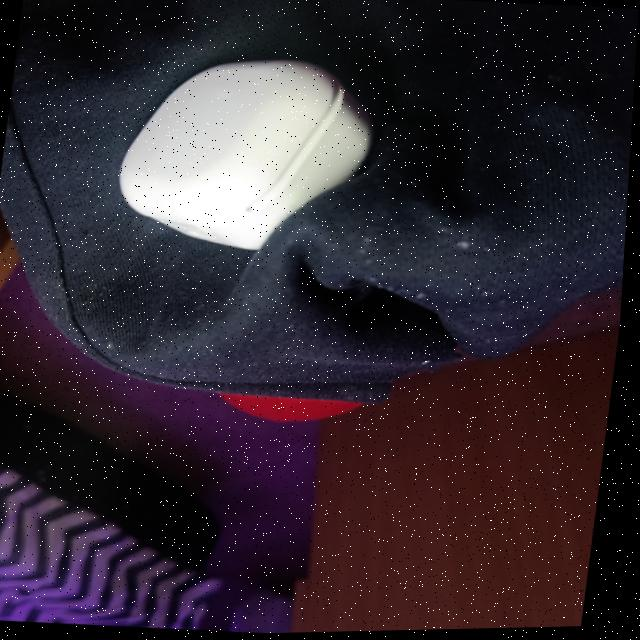headphones: (120, 60, 372, 250)
